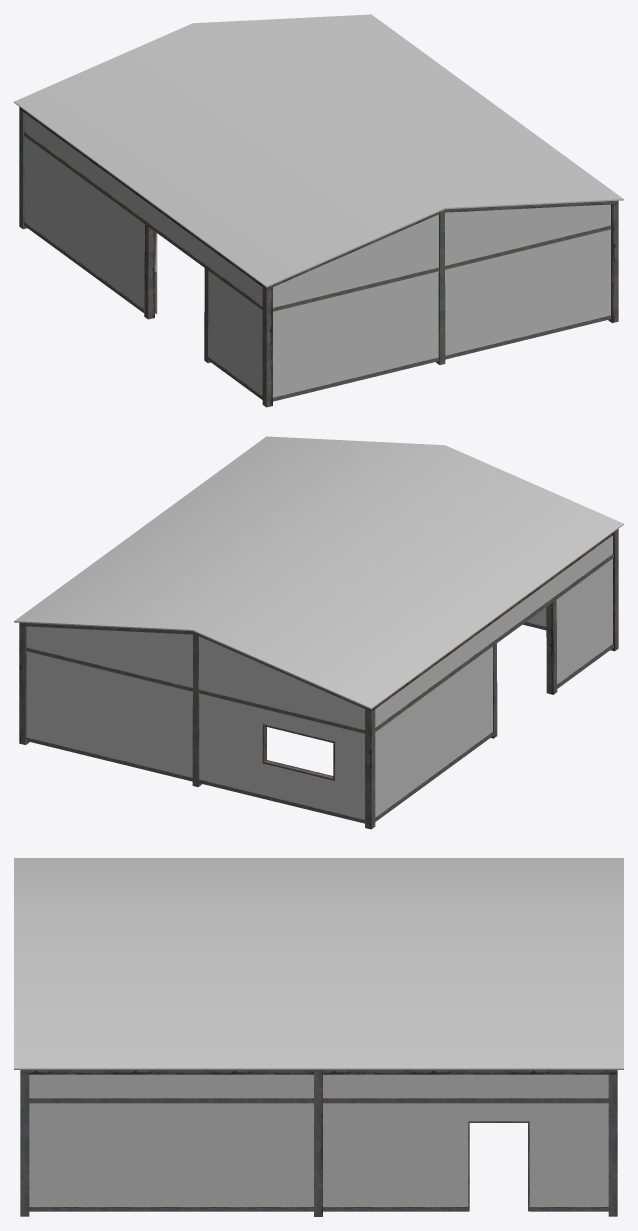
Rendered from StuccoBuildingA.FBX.
3 renders of one model, top to bottom at view 1: azimuth 30°, elevation 25°; view 2: azimuth 150°, elevation 25°; view 3: azimuth 270°, elevation 25°, orthographic. The views are drawn at different scales.
Visible parts, largest first — view 1: StuccoBuildingA; view 2: StuccoBuildingA; view 3: StuccoBuildingA.
Boxes of the visible parts, x1,y1,x2,y2 form: StuccoBuildingA: [14, 14, 623, 407]; StuccoBuildingA: [14, 436, 623, 829]; StuccoBuildingA: [14, 858, 623, 1216].
Bounding box in the file's own units: 1248 × 529 × 1526.
